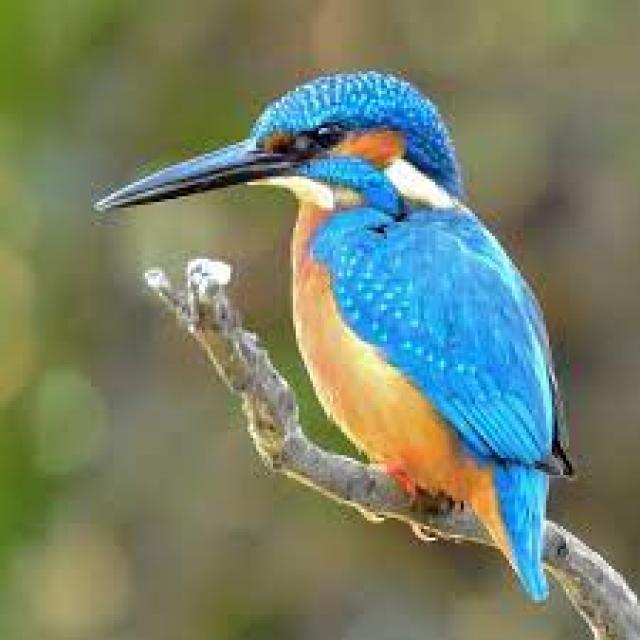kingfisher: (75, 38, 622, 614)
